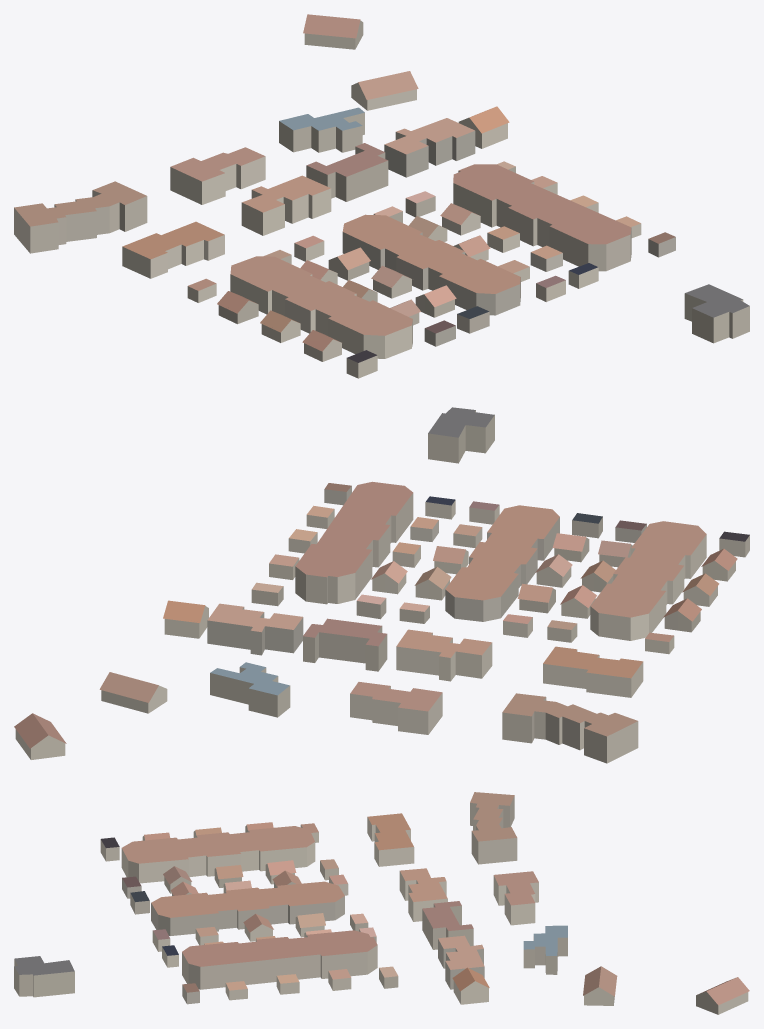
3 views of the same model, one above another, from view 1: azimuth 30°, elevation 25°; view 2: azimuth 150°, elevation 25°; view 3: azimuth 270°, elevation 25° (orthographic). The views are drawn at different scales.
Visible parts, largest first — view 1: tuile; view 2: tuile; view 3: tuile.
Boxes of the visible parts, x1,y1,x2,y2 form: tuile: (14, 14, 749, 378); tuile: (14, 407, 749, 763); tuile: (14, 792, 749, 1014).
Bounding box in the file's own units: 147 × 12 × 230.
